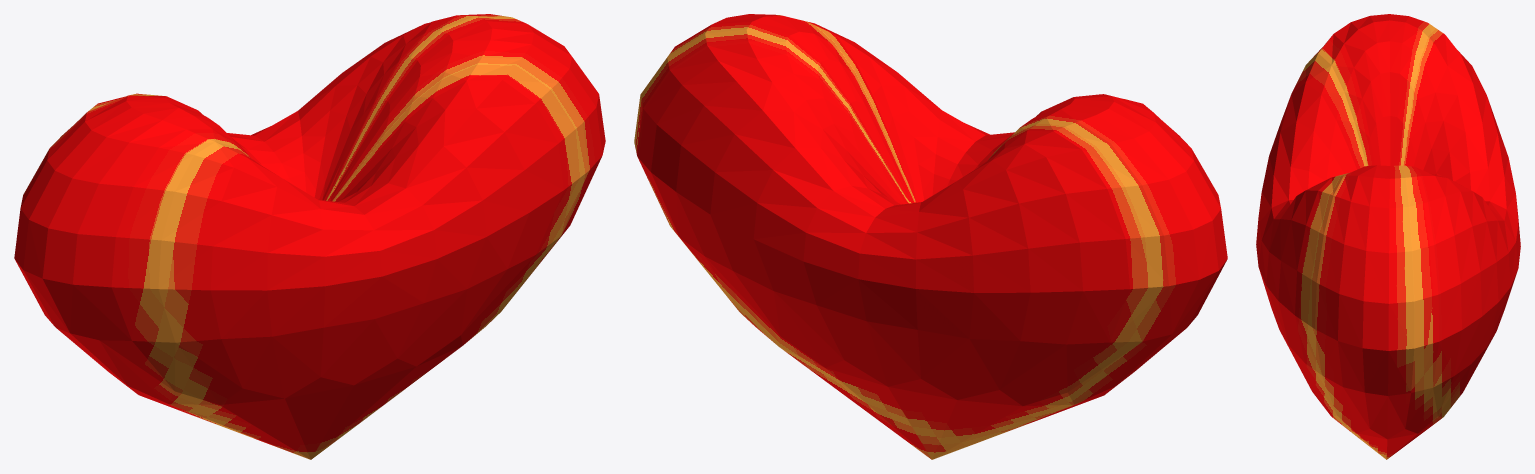
The model's file is Heart.fbx.
3 views of the same model, side by side, from view 1: azimuth 30°, elevation 25°; view 2: azimuth 150°, elevation 25°; view 3: azimuth 270°, elevation 25° (orthographic). The views are drawn at different scales.
Parts seen in each view (by area): view 1: Heart; view 2: Heart; view 3: Heart.
Boxes of the visible parts, x1=… form: Heart: x1=14, y1=14, x2=605, y2=459; Heart: x1=634, y1=14, x2=1227, y2=459; Heart: x1=1256, y1=14, x2=1520, y2=459.
Bounding box in the file's own units: 155 × 102 × 67.6.
